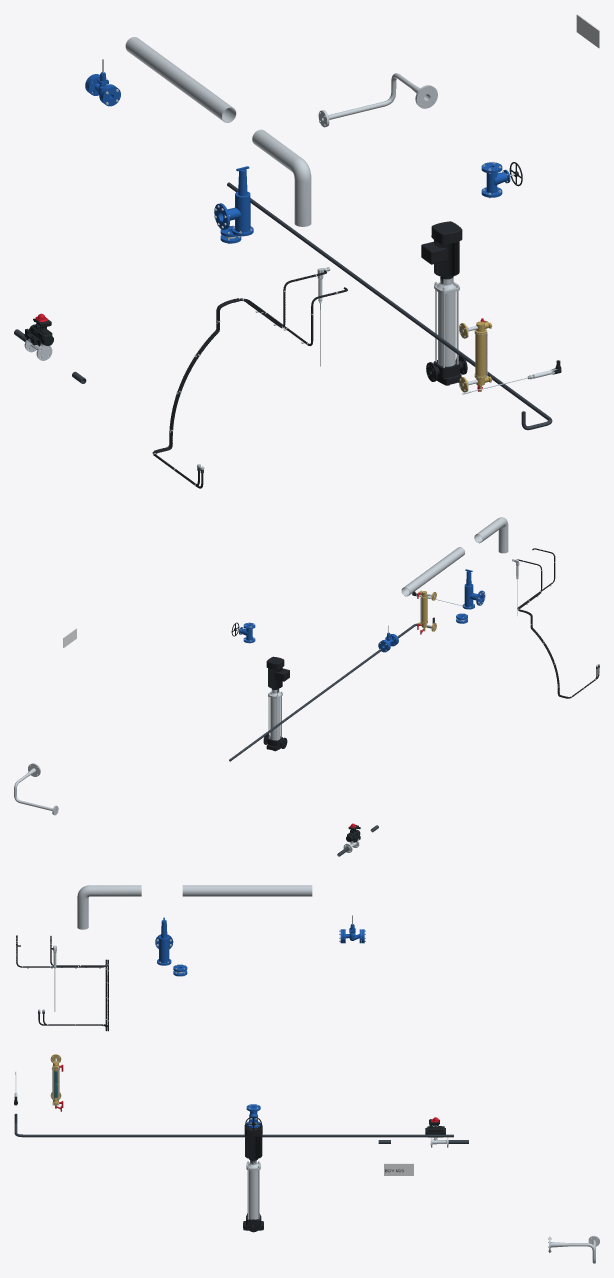
The picture shows the model from 3 angles, top to bottom: view 1: azimuth 30°, elevation 25°; view 2: azimuth 150°, elevation 25°; view 3: azimuth 270°, elevation 25°; orthographic projection. The views are drawn at different scales.
Visible parts, largest first — view 1: steam_delivery / steel, steam_rise / steel, tds_common / dark, pump_2 CAD solid 15, safety_2 / blue, fv_to_trap_gap / steel, sight_glasses_1 / sight_glasses_1_0.npz, wiring_low_level_1 / black, pump_2 CAD solid 2, bcv7432 / bcv7432_0.npz, wiring_lp400 / black, pump_2 CAD solid 0 (+1 smaller); view 2: steam_delivery / steel, steam_rise / steel, tds_common / dark, pump_2 CAD solid 15, safety_2 / blue, sight_glasses_1 / sight_glasses_1_0.npz; view 3: tds_common / dark, steam_delivery / steel, steam_rise / steel, pump_2 CAD solid 15, pump_2 CAD solid 2, safety_2 / blue, wiring_low_level_1 / black, sight_glasses_1 / sight_glasses_1_0.npz.
Part boxes in pixels (bbox=[...]): steam_delivery / steel: bbox=[125, 37, 236, 122]; steam_rise / steel: bbox=[252, 129, 311, 226]; tds_common / dark: bbox=[227, 182, 552, 430]; pump_2 CAD solid 15: bbox=[421, 221, 462, 277]; safety_2 / blue: bbox=[214, 166, 253, 236]; fv_to_trap_gap / steel: bbox=[318, 73, 437, 127]; sight_glasses_1 / sight_glasses_1_0.npz: bbox=[459, 318, 492, 392]; wiring_low_level_1 / black: bbox=[154, 287, 347, 488]; pump_2 CAD solid 2: bbox=[438, 292, 455, 366]; bcv7432 / bcv7432_0.npz: bbox=[24, 313, 53, 360]; wiring_lp400 / black: bbox=[152, 270, 326, 485]; pump_2 CAD solid 0: bbox=[426, 355, 467, 385]; steam_delivery / steel: bbox=[401, 547, 464, 596]; steam_rise / steel: bbox=[474, 517, 508, 553]; tds_common / dark: bbox=[229, 617, 434, 761]; pump_2 CAD solid 15: bbox=[266, 656, 289, 689]; safety_2 / blue: bbox=[462, 569, 485, 609]; sight_glasses_1 / sight_glasses_1_0.npz: bbox=[417, 590, 436, 634]; tds_common / dark: bbox=[14, 1113, 453, 1137]; steam_delivery / steel: bbox=[182, 885, 312, 896]; steam_rise / steel: bbox=[77, 885, 141, 929]; pump_2 CAD solid 15: bbox=[244, 1123, 262, 1159]; pump_2 CAD solid 2: bbox=[249, 1170, 259, 1219]; safety_2 / blue: bbox=[155, 917, 173, 965]; wiring_low_level_1 / black: bbox=[16, 935, 106, 1031]; sight_glasses_1 / sight_glasses_1_0.npz: bbox=[50, 1054, 63, 1111].
Bounding box in the file's own units: 5.09 × 2.88 × 5.85.
